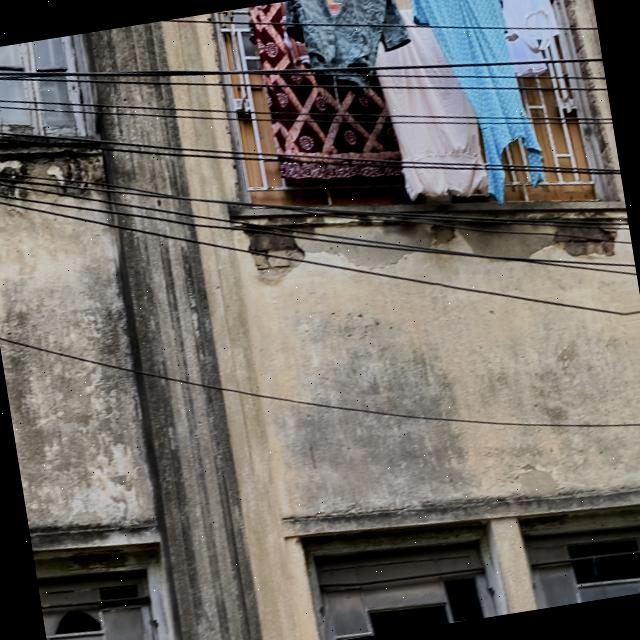Corrosion: (90, 22, 258, 640)
